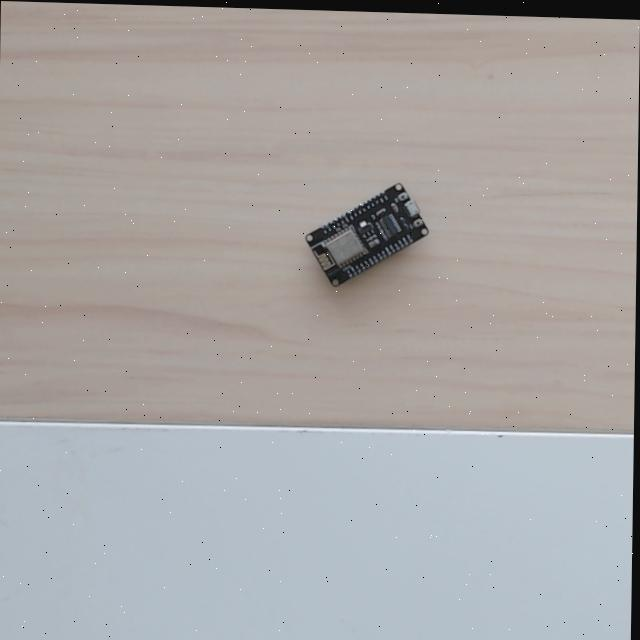ESP8266-NodeMCU: (300, 174, 434, 290)
